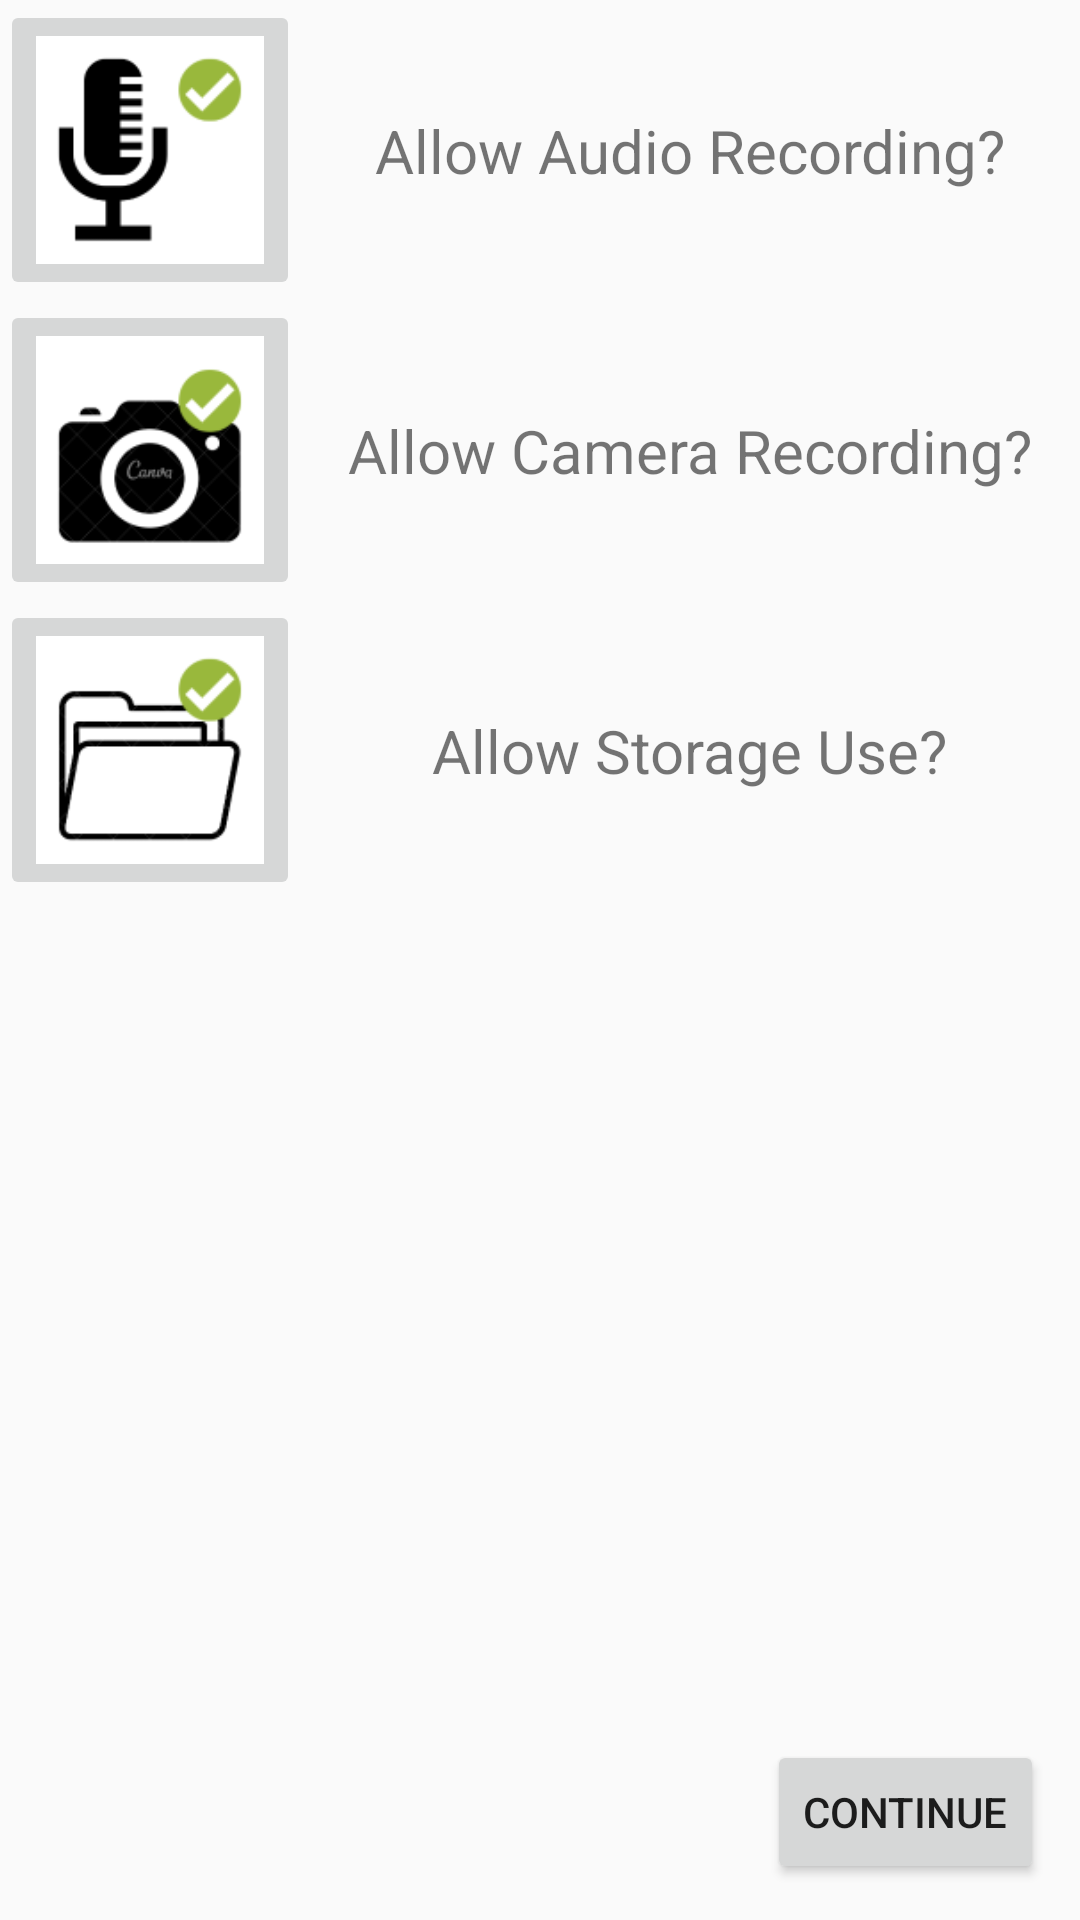

Icons on this 1080px x 1920px Android screen, each with its box as (x1, y1, x2, y2):
folder permission granted: (12, 618, 288, 882)
mic permission granted: (12, 18, 288, 282)
